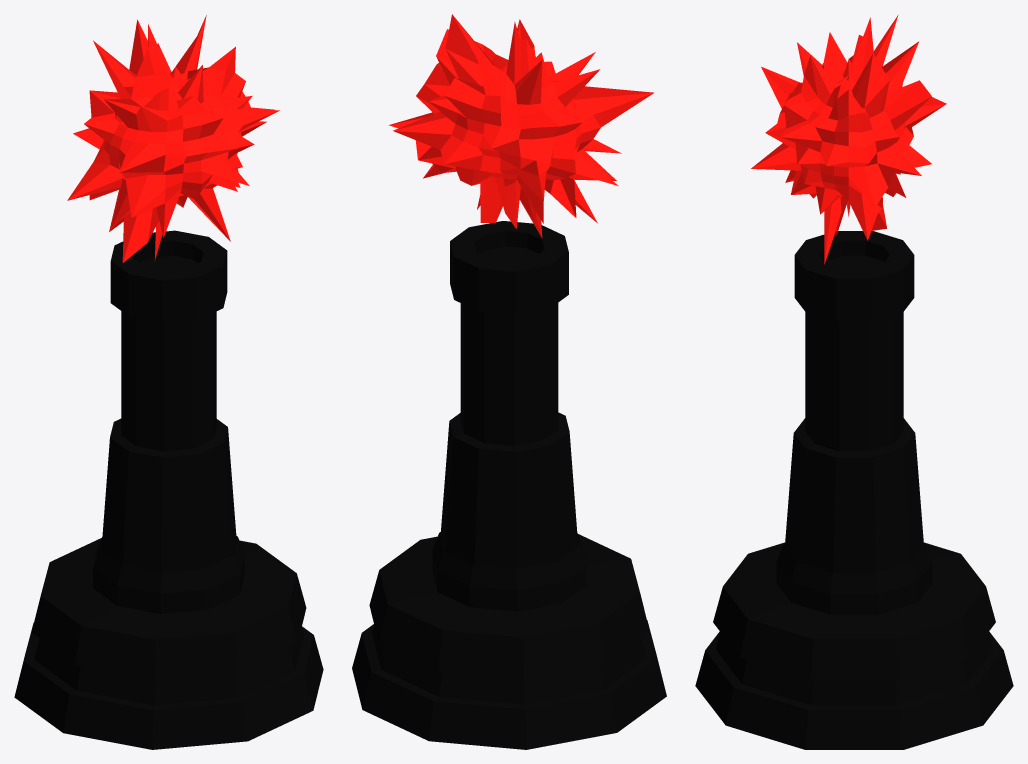
File: infernal.fbx
3 renders of one model, left to right at view 1: azimuth 30°, elevation 25°; view 2: azimuth 150°, elevation 25°; view 3: azimuth 270°, elevation 25°, orthographic.
Visible parts, largest first — view 1: Cylinder.006, Sphere; view 2: Cylinder.006, Sphere; view 3: Cylinder.006, Sphere.
Boxes of the visible parts, left/top/right/bottom form: Cylinder.006: left=14, top=230, right=323, bottom=749; Sphere: left=67, top=15, right=279, bottom=262; Cylinder.006: left=352, top=221, right=666, bottom=749; Sphere: left=389, top=14, right=654, bottom=238; Cylinder.006: left=695, top=231, right=1013, bottom=749; Sphere: left=751, top=15, right=946, bottom=264.
Bounding box in the file's own units: 1059 × 2557 × 1114.
